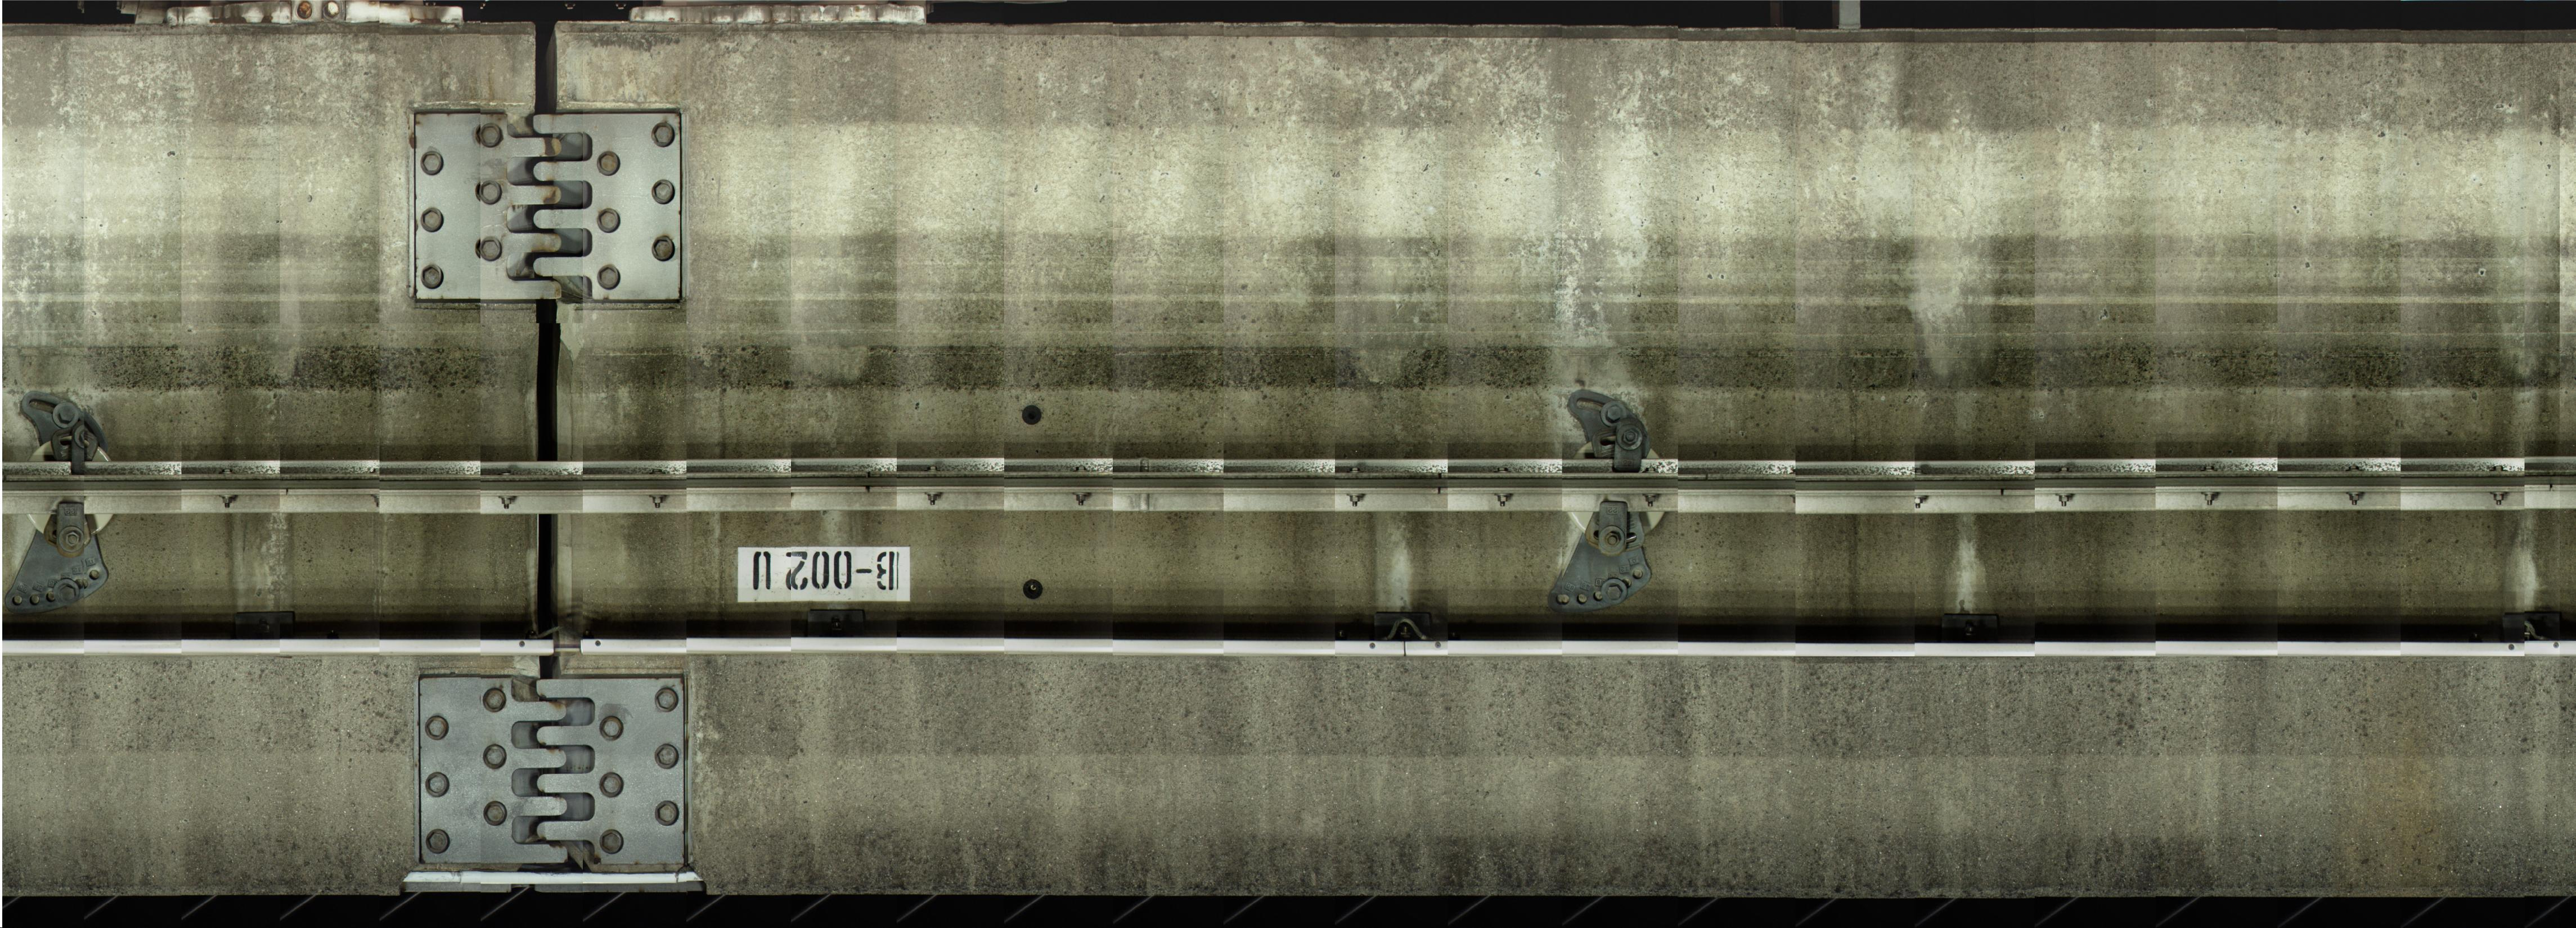concrete: (547, 25, 2568, 450), (552, 514, 2571, 895), (5, 23, 529, 450), (3, 514, 534, 895)
